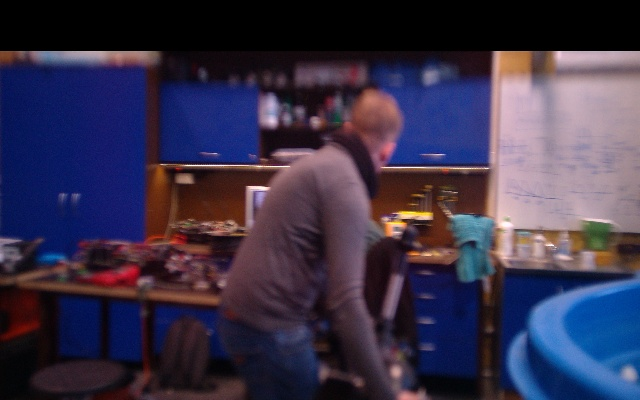black: (380, 267, 409, 329)
